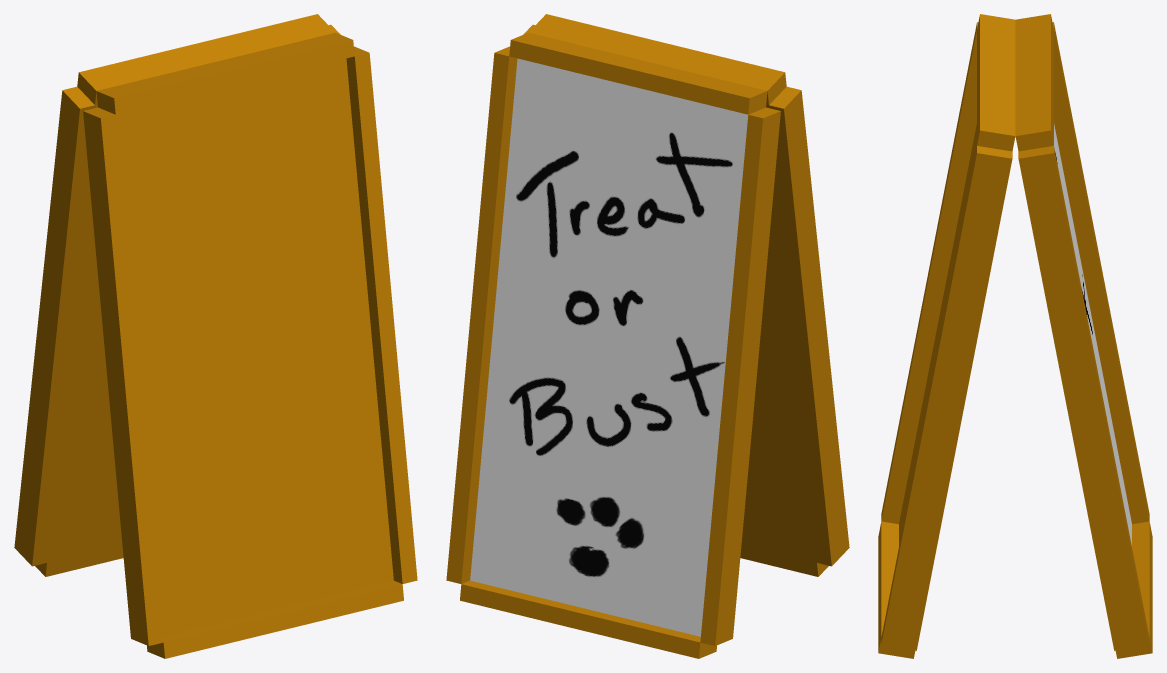
Rendered from DogSign.fbx.
3 views of the same model, side by side, from view 1: azimuth 30°, elevation 25°; view 2: azimuth 150°, elevation 25°; view 3: azimuth 270°, elevation 25° (orthographic).
Parts seen in each view (by area): view 1: DogSign1; view 2: DogSign1; view 3: DogSign1.
Part boxes in pixels (left/top/right/bottom): DogSign1: left=14, top=14, right=417, bottom=658; DogSign1: left=446, top=14, right=849, bottom=658; DogSign1: left=878, top=14, right=1152, bottom=658.
Size of the model in its own units: 0.3571 by 0.6715 by 0.3159.
